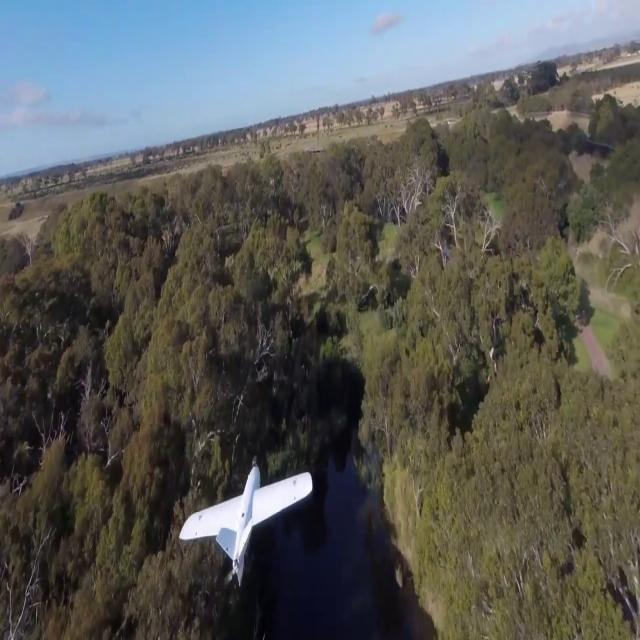iha: (180, 492, 312, 544)
